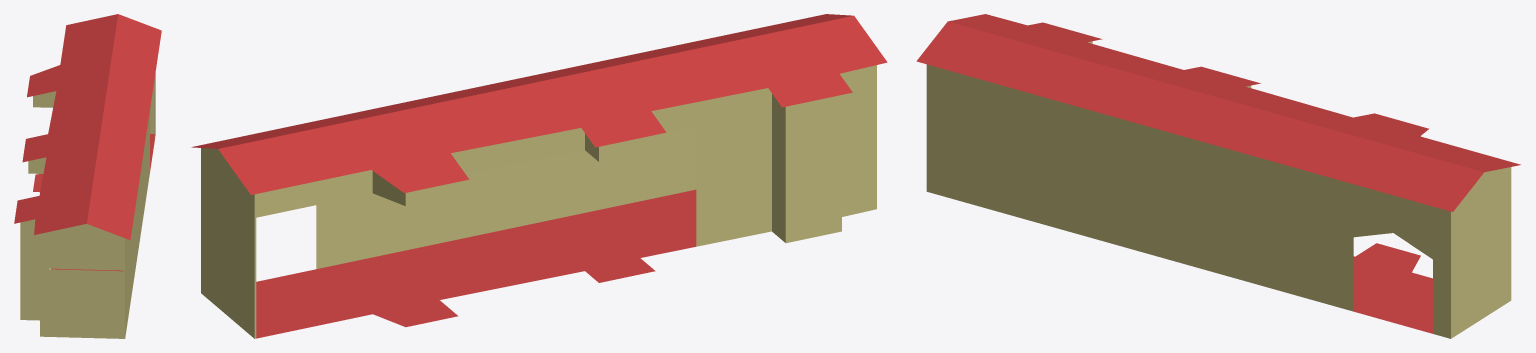
The picture shows the model from 3 angles, left to right: view 1: azimuth 30°, elevation 25°; view 2: azimuth 150°, elevation 25°; view 3: azimuth 270°, elevation 25°; orthographic projection. The views are drawn at different scales.
Visible parts, largest first — view 1: group_3, group_5, group_4, group_6; view 2: group_5, group_3, group_6, group_4; view 3: group_5, group_3, group_6, group_4.
Part boxes in pixels (left/top/right/bottom): group_3: left=14, top=14, right=161, bottom=240; group_5: left=20, top=73, right=155, bottom=338; group_4: left=14, top=14, right=132, bottom=228; group_6: left=33, top=134, right=154, bottom=271; group_5: left=201, top=65, right=876, bottom=338; group_3: left=191, top=14, right=887, bottom=194; group_6: left=256, top=189, right=696, bottom=338; group_4: left=215, top=15, right=852, bottom=192; group_5: left=926, top=41, right=1511, bottom=338; group_3: left=916, top=14, right=1520, bottom=211; group_6: left=1353, top=243, right=1432, bottom=333; group_4: left=940, top=21, right=1483, bottom=184.
Bounding box in the file's own units: 46.95 × 61.65 × 16.97.
